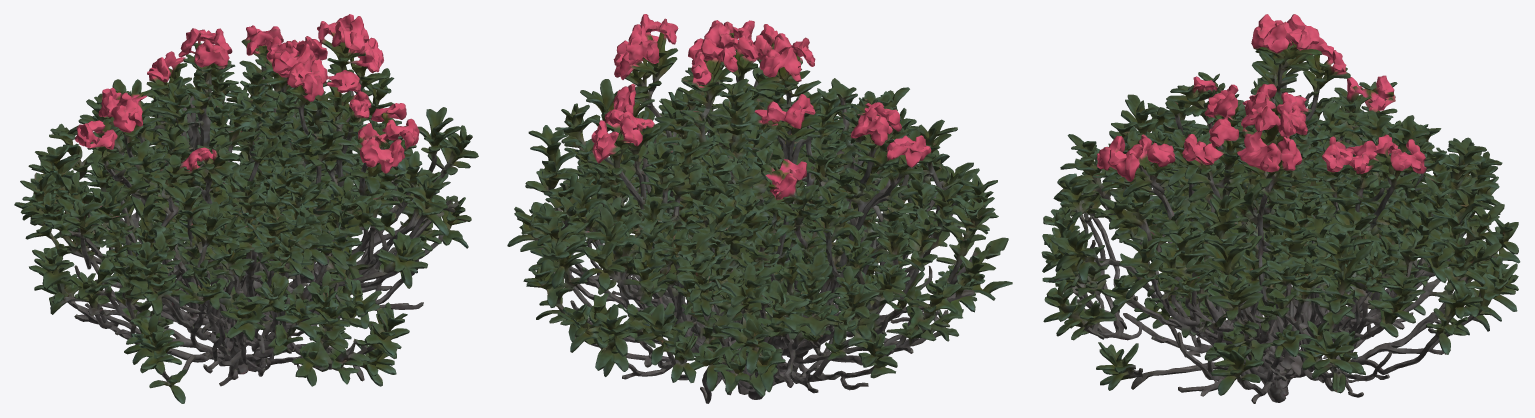
The model's file is task-4902844.glb.
3 views of the same model, side by side, from view 1: azimuth 30°, elevation 25°; view 2: azimuth 150°, elevation 25°; view 3: azimuth 270°, elevation 25° (orthographic). The views are drawn at different scales.
Parts seen in each view (by area): view 1: world; view 2: world; view 3: world.
Part boxes in pixels (x1,y1,x2,y2): world: (14,14,478,403); world: (507,14,1012,403); world: (1041,14,1520,403).
Size of the model in its own units: 0.8 by 0.6671 by 0.8.
1 material, 1 textured.
